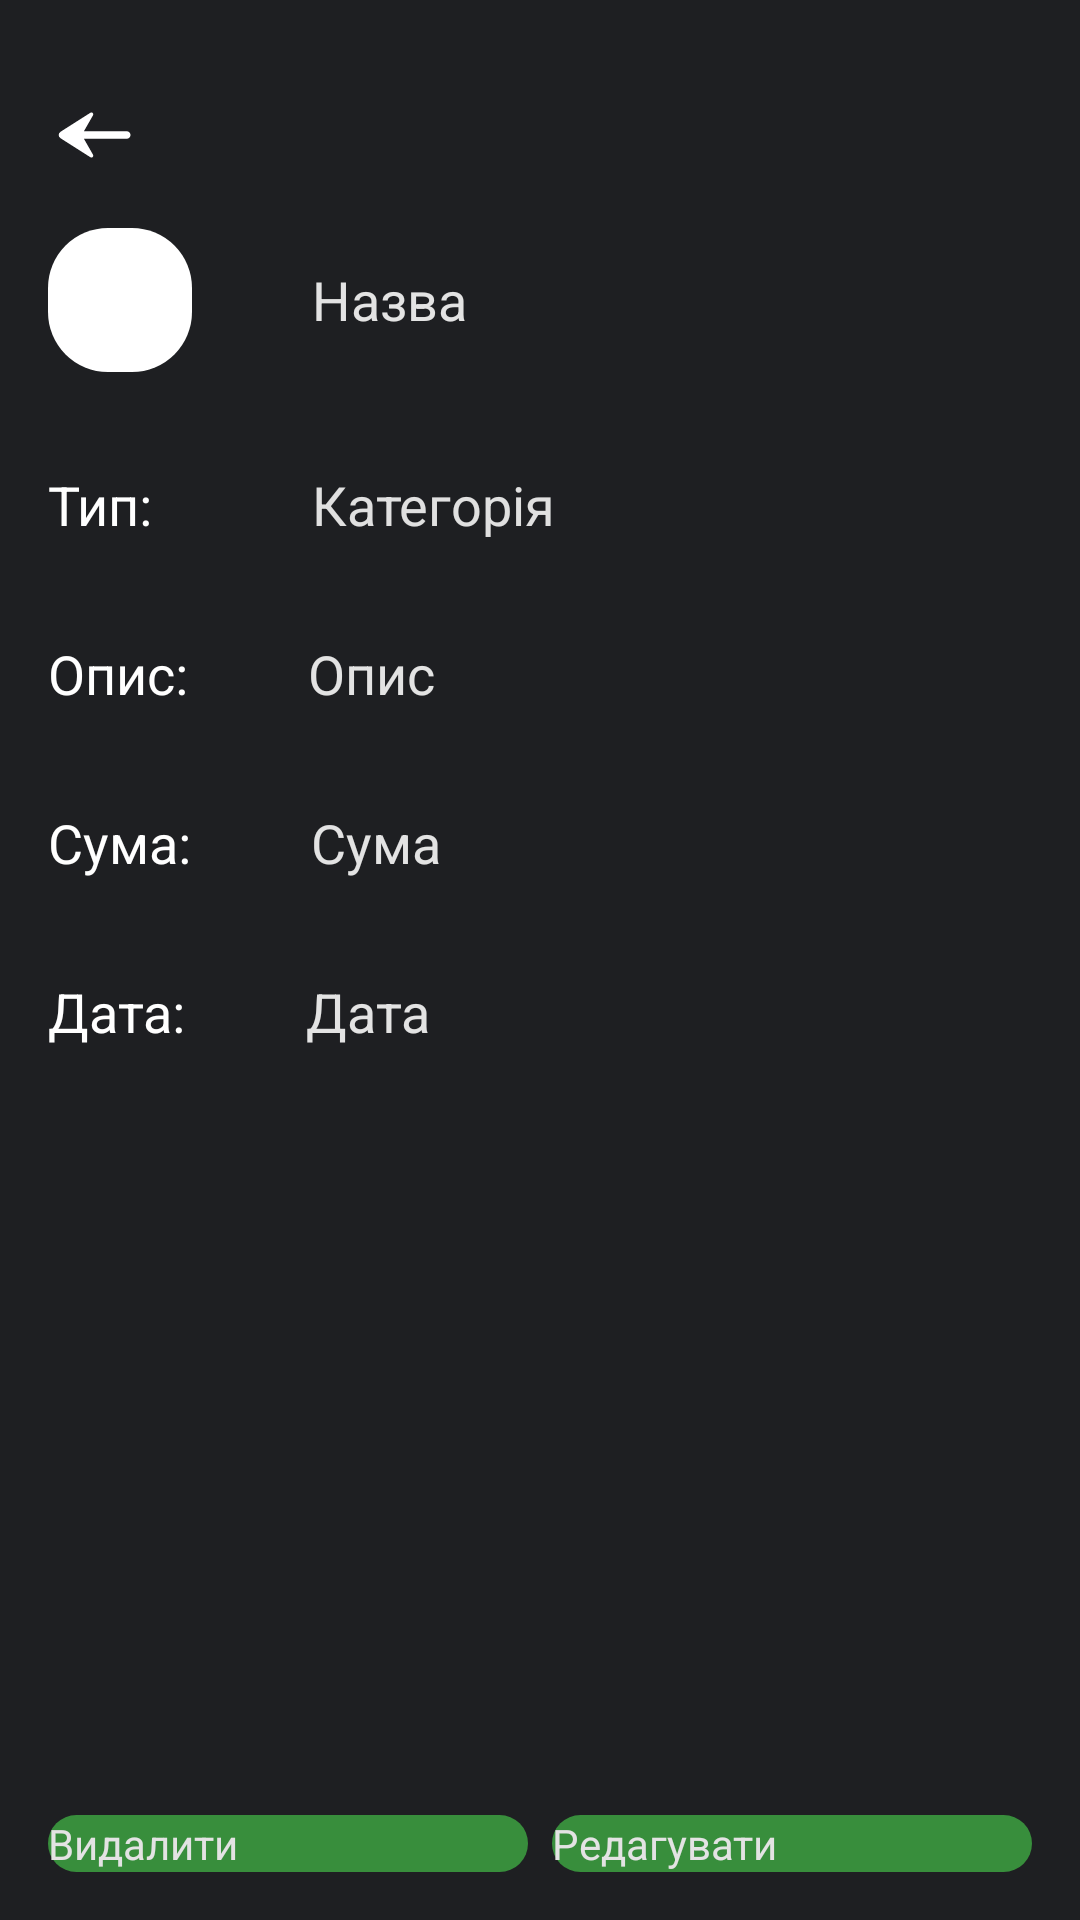

Where to tap for icons on this 1080 x 1920 app screen, as (x=x, y=y):
back arrow: (x=94, y=135)
